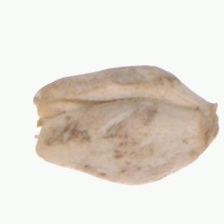L1: (200, 95, 221, 148), (32, 88, 46, 161)
L2: (33, 64, 219, 185)
